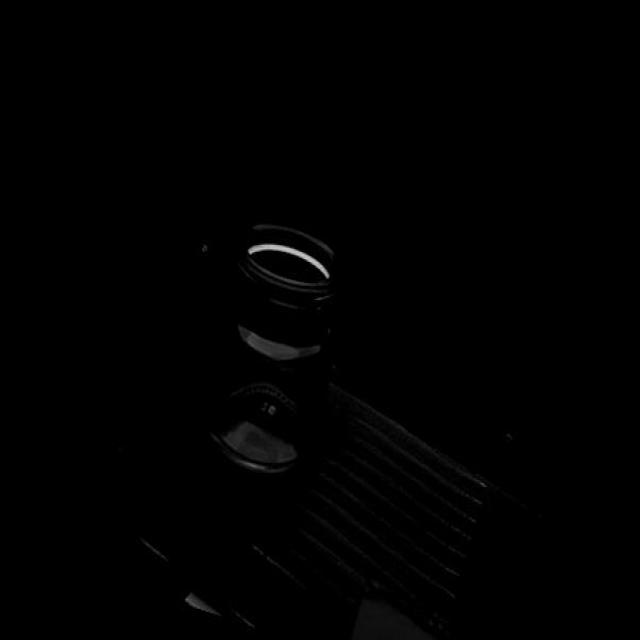glass: (188, 206, 358, 492)
